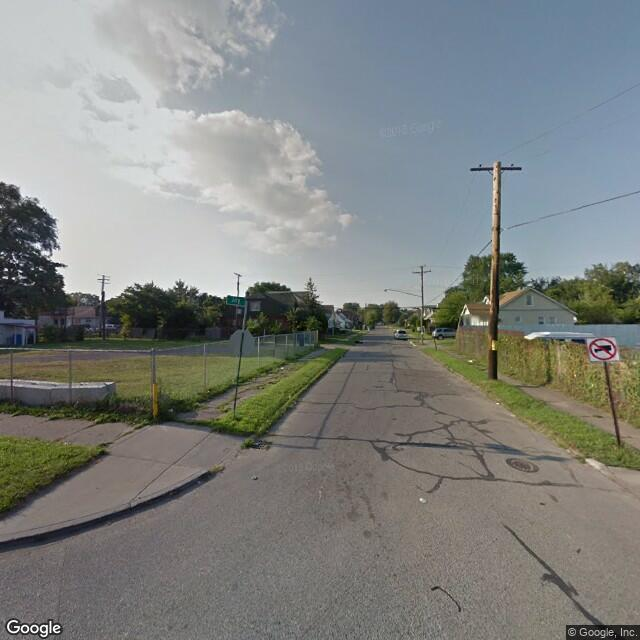litter: (491, 397, 506, 409), (464, 356, 478, 365), (276, 363, 289, 371)
